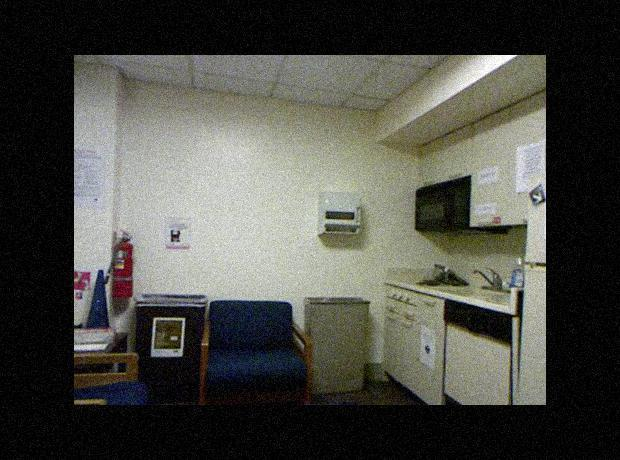Bote de Basura: (134, 293, 199, 397), (304, 295, 371, 395)
Electrodomestico: (441, 309, 515, 404)
Lavaplatos: (434, 267, 512, 304)
